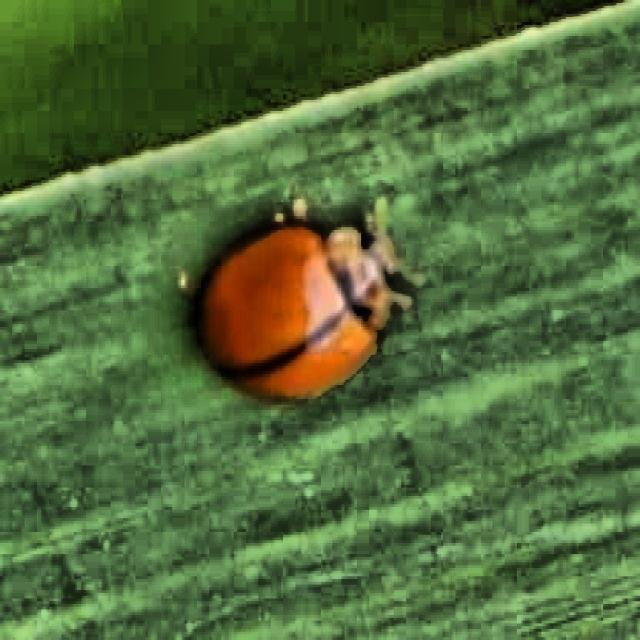Ladybug: (175, 166, 408, 450)
